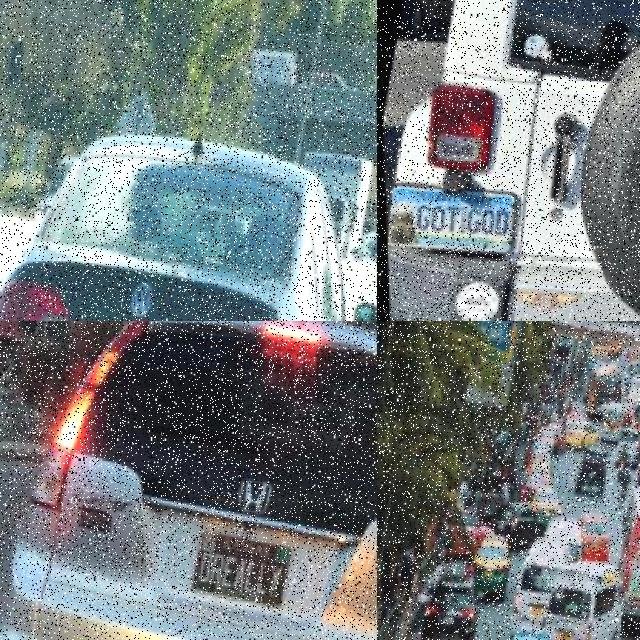licenseplate: (384, 185, 512, 255), (185, 531, 291, 613), (524, 604, 542, 624), (435, 610, 451, 630), (477, 568, 491, 584)
